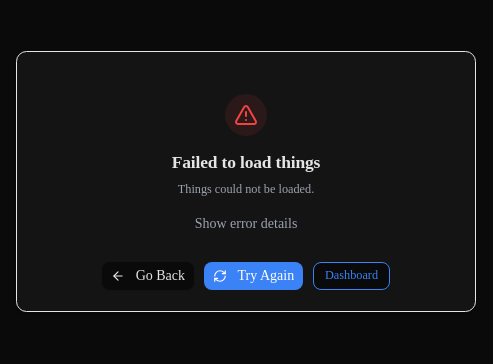
Scenario: RouteErrorCard › shows stack trace when available
Click the button "Show error details" at (246, 223), box top-left (195, 213), bottom-right (297, 234)
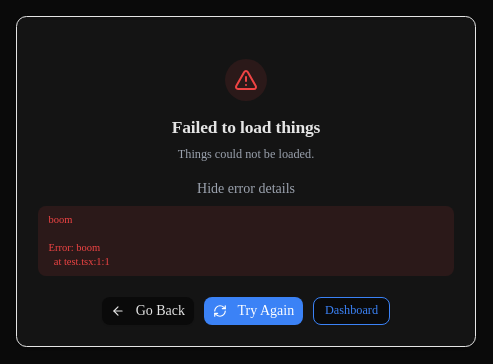
Now the text "boom Error: boom at test.tsx:1:1" is shown, box top-left (38, 206), bottom-right (454, 276)
